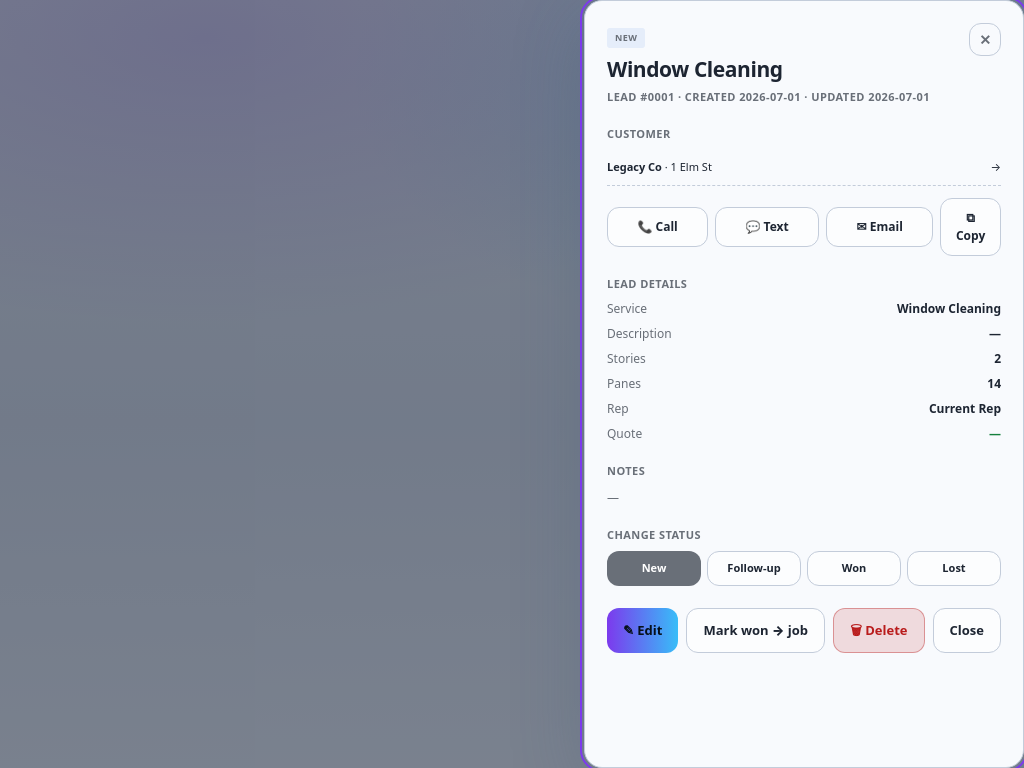
Test: LeadDrawer Rep select for a rep_id absent from the current options (demoted/legacy) › does not add a legacy option when rep_id IS among the current options (control case)
The width and height of the screenshot is (1024, 768).
Click the button "✎ Edit". click: (643, 630)
box: [607,608,678,653]
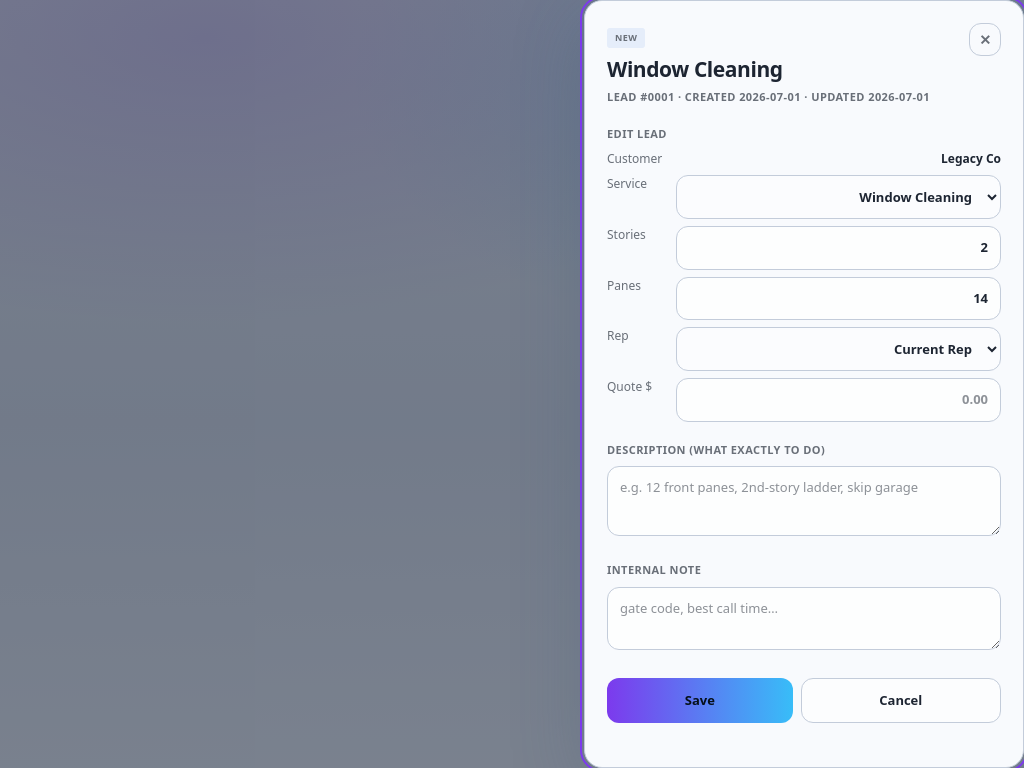
Expected: the 2nd dropdown named "rep_id" shows "Current Rep", [676,327,1001,371]
